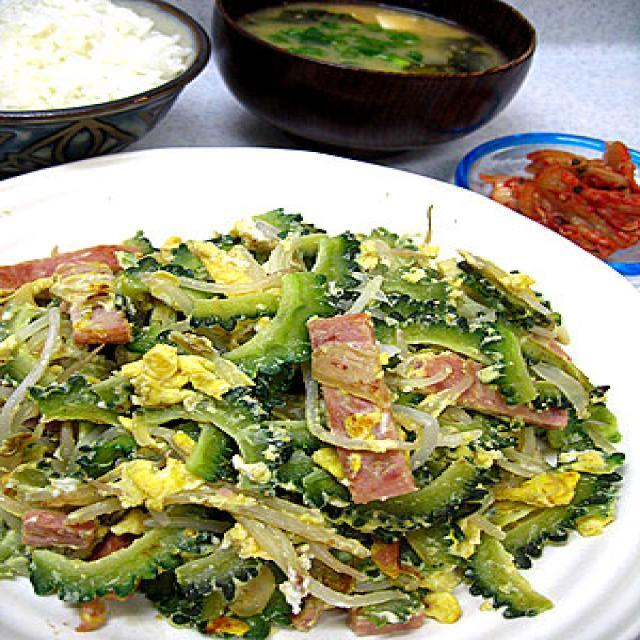Rice: (0, 0, 177, 114)
